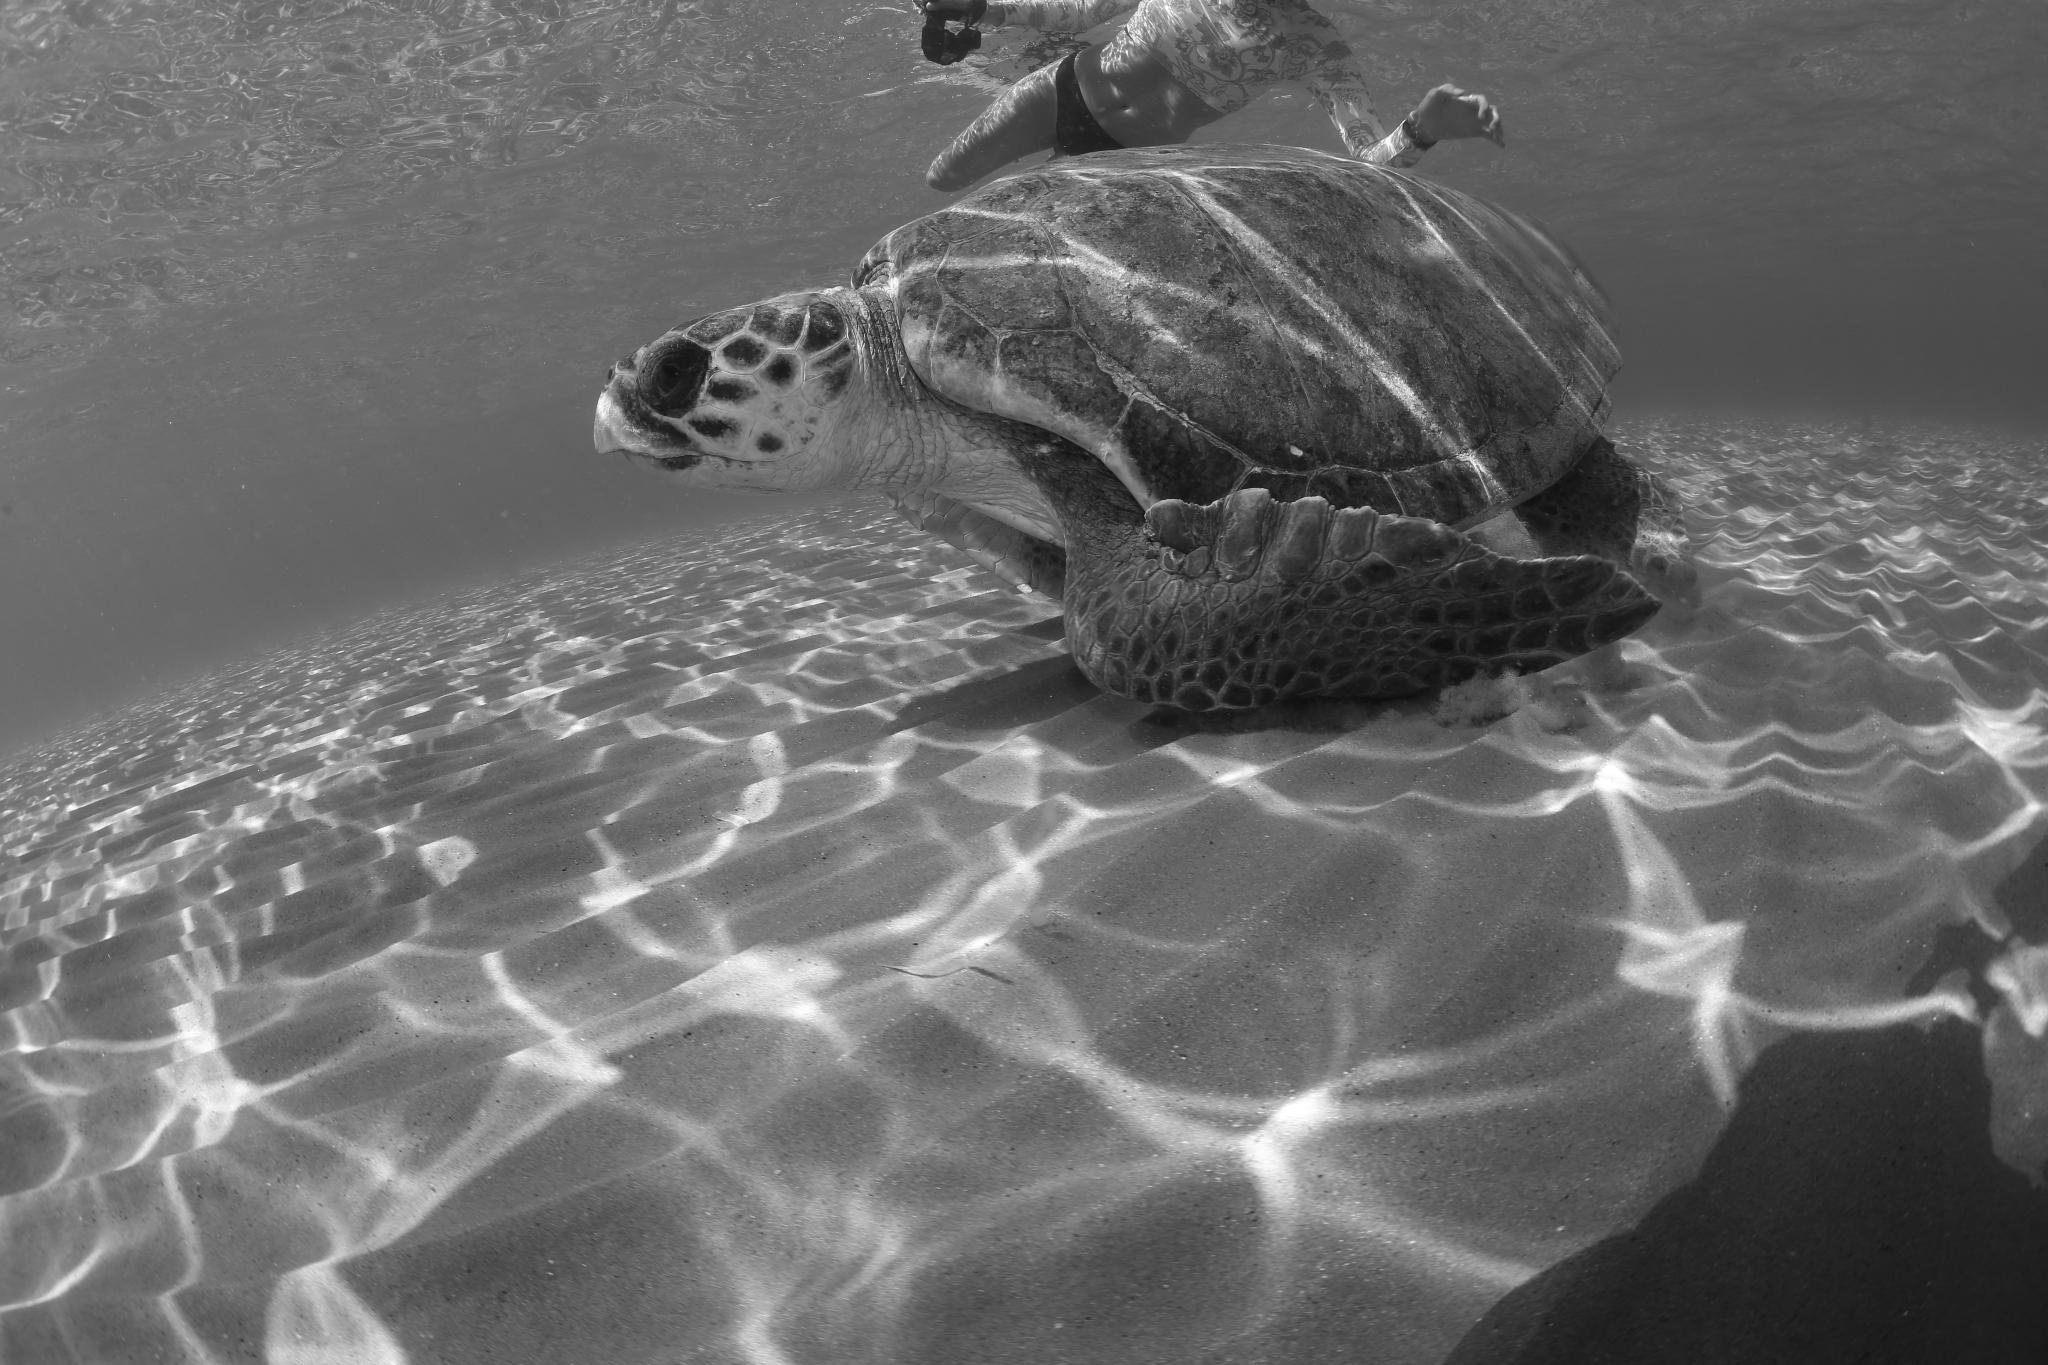Head: (595, 289, 886, 494)
